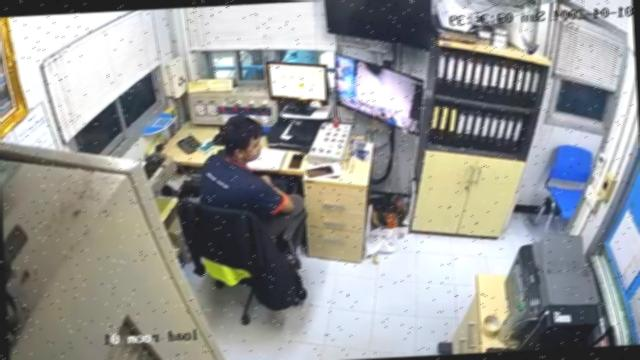Head: (213, 115, 264, 160)
People: (198, 116, 304, 239)
Phone: (302, 163, 336, 177), (284, 153, 307, 168)
